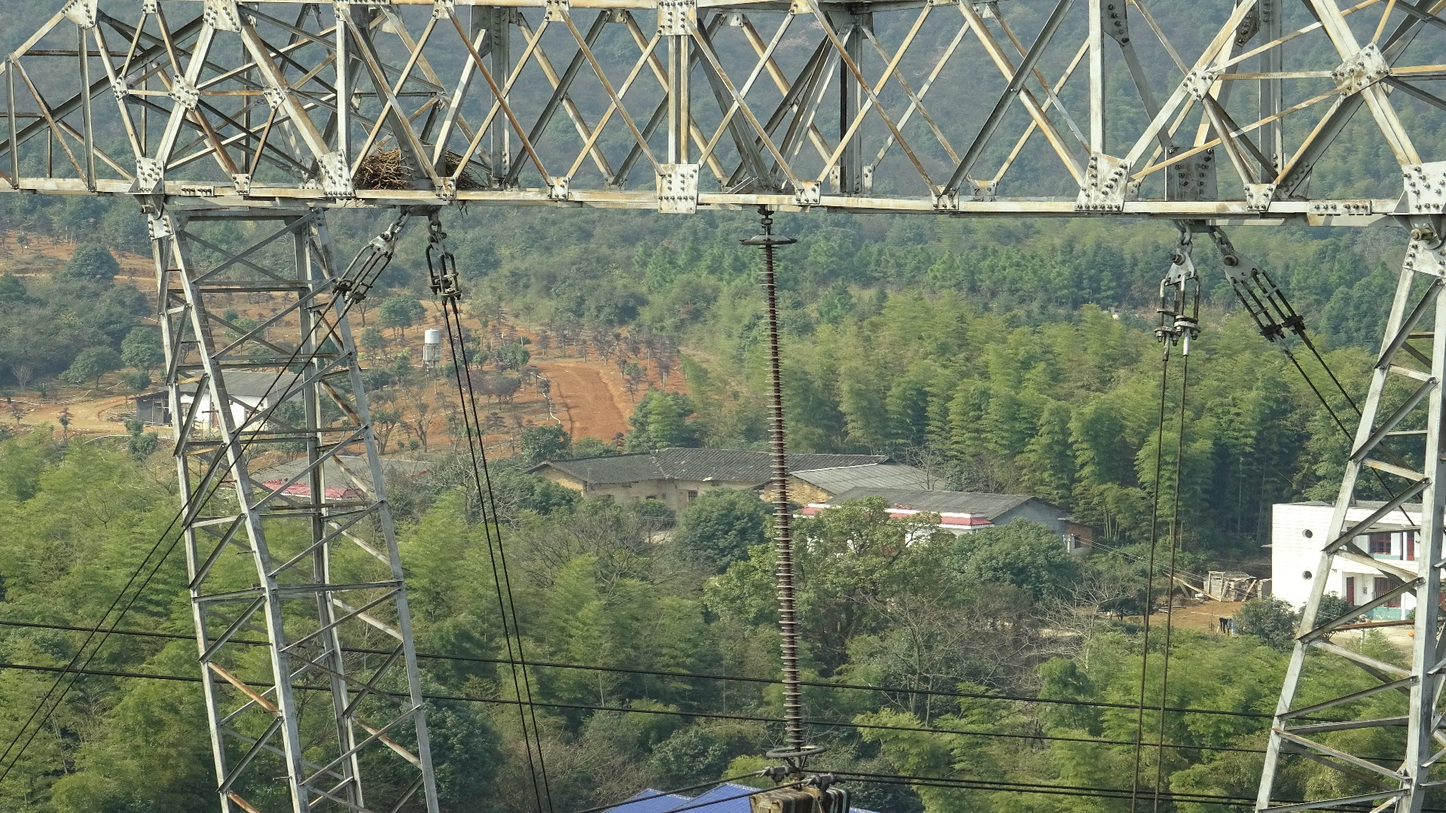insulator: (752, 240, 810, 750)
